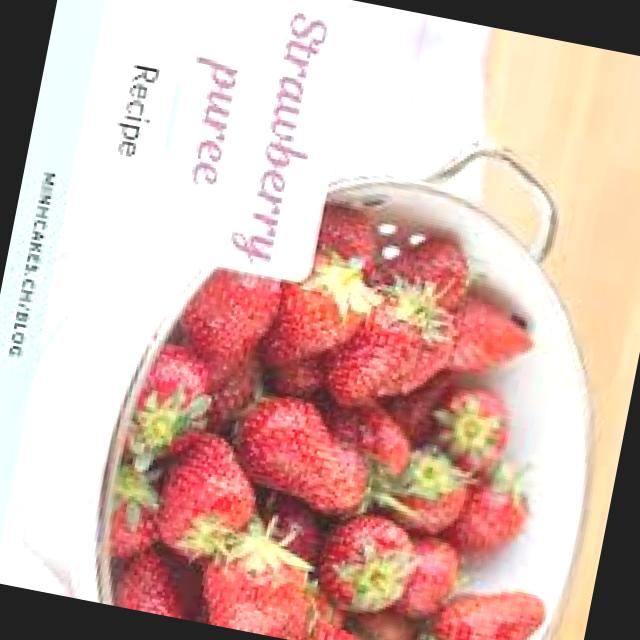strawberry: (144, 412, 282, 570), (336, 268, 467, 426), (229, 388, 384, 512), (314, 500, 426, 632), (425, 562, 555, 640)
